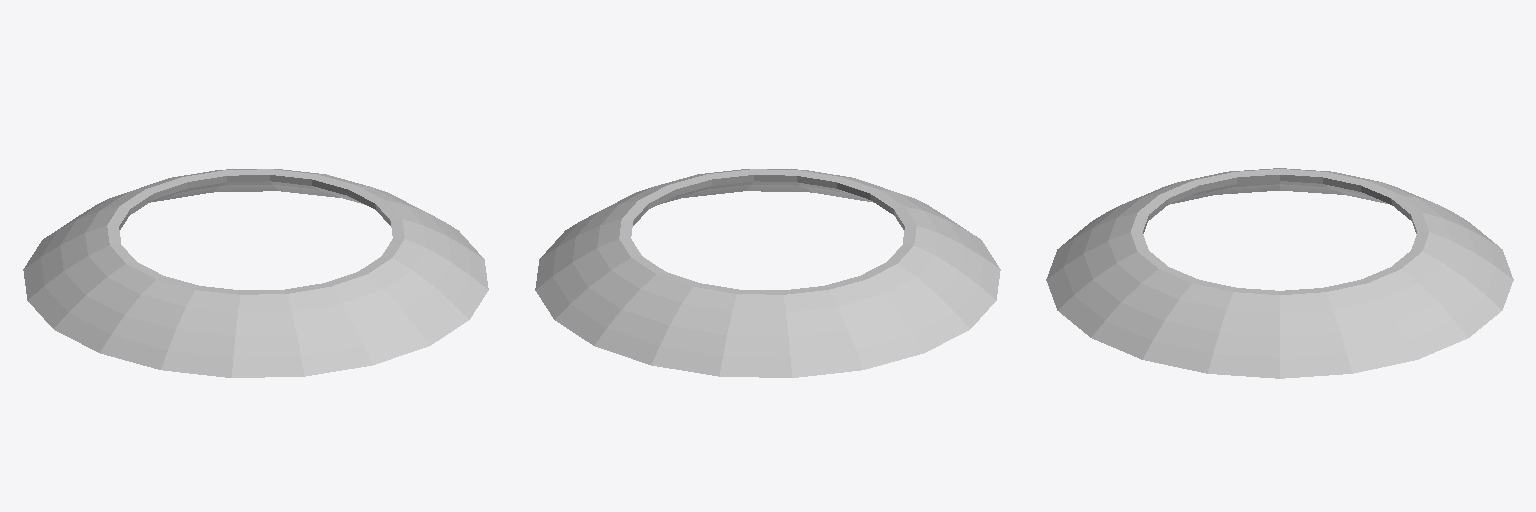
The model's file is LeftThumbBase.obj.
3 renders of one model, left to right at view 1: azimuth 30°, elevation 25°; view 2: azimuth 150°, elevation 25°; view 3: azimuth 270°, elevation 25°, orthographic.
Visible parts, largest first — view 1: pSphere4; view 2: pSphere4; view 3: pSphere4.
Part boxes in pixels (x1,y1,x2,y2): pSphere4: (23, 169, 488, 377); pSphere4: (535, 169, 1000, 377); pSphere4: (1046, 168, 1513, 378).
Size of the model in its own units: 3.33 by 0.3755 by 3.32.